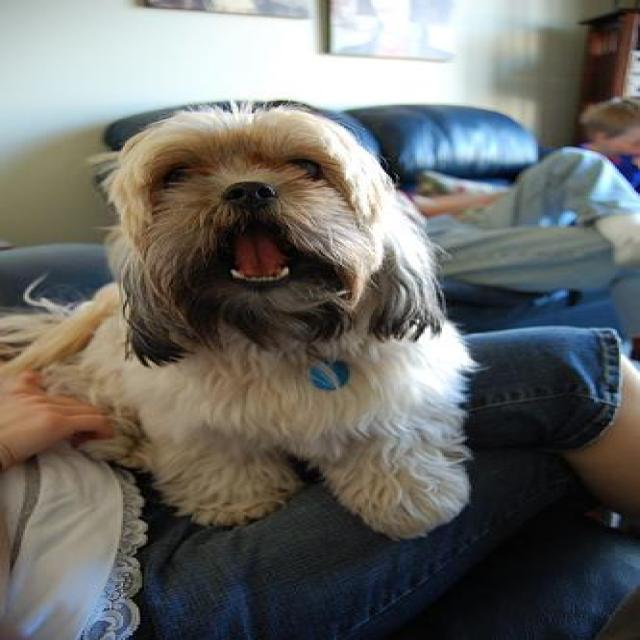shih_tzu: (0, 100, 475, 540)
